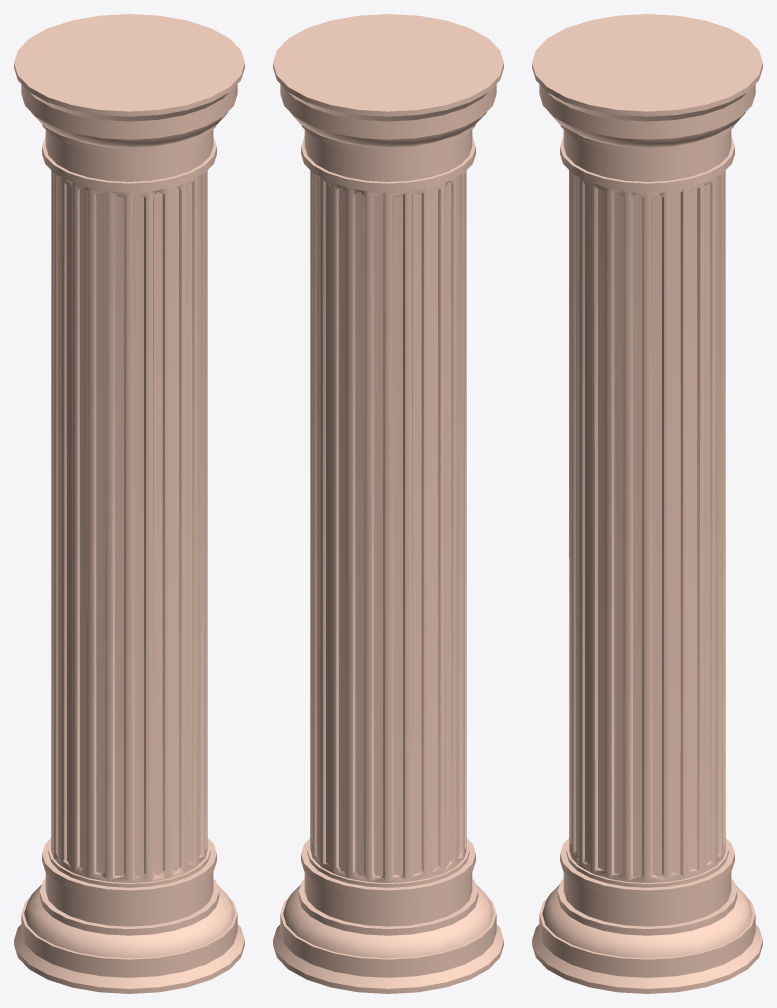
The model's file is SM_Column_Greek.fbx.
3 renders of one model, left to right at view 1: azimuth 30°, elevation 25°; view 2: azimuth 150°, elevation 25°; view 3: azimuth 270°, elevation 25°, orthographic.
Parts seen in each view (by area): view 1: SM_Column_Doric; view 2: SM_Column_Doric; view 3: SM_Column_Doric.
Boxes of the visible parts, x1=… form: SM_Column_Doric: x1=14, y1=14, x2=244, y2=993; SM_Column_Doric: x1=273, y1=14, x2=503, y2=993; SM_Column_Doric: x1=532, y1=14, x2=762, y2=993.
Size of the model in its own units: 138 by 581 by 138.
